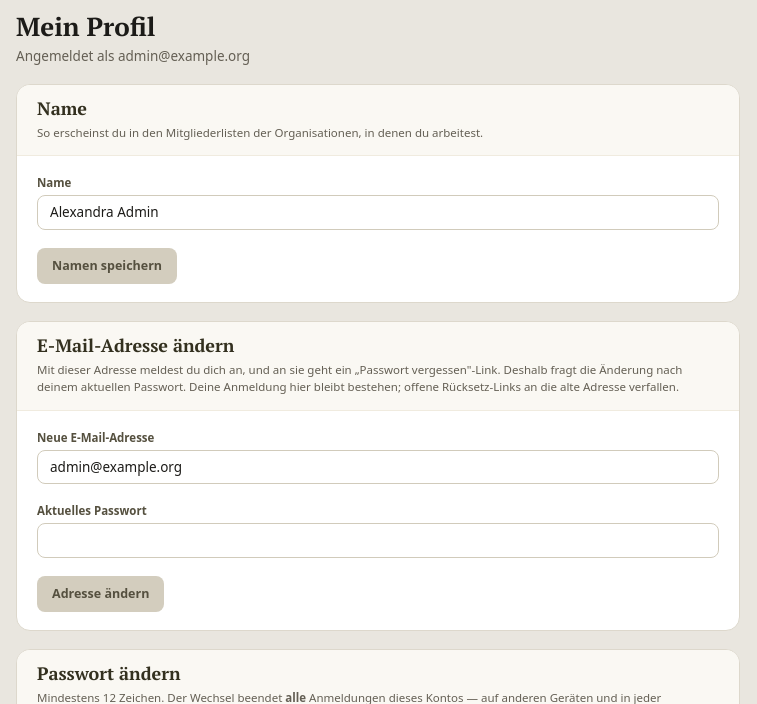
Test case: ProfileView › E-Mail-Adresse ändern (Befund 8) › zeigt bei einem falschen Passwort den Satz des Servers, nicht „bitte anmelden"
Step 1. Replace the text in the field labelled "Neue E-Mail-Adresse" with "neue@example.org" → (378, 467), box [37,450,719,484]
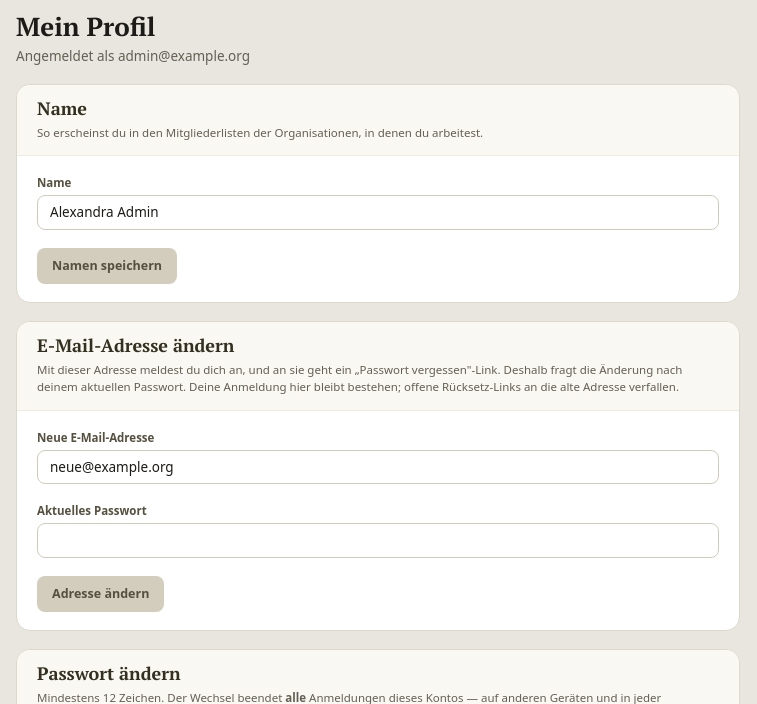
Step 2. Type "falsch" into the password field labelled "Aktuelles Passwort" → (378, 540), box [37,523,719,558]
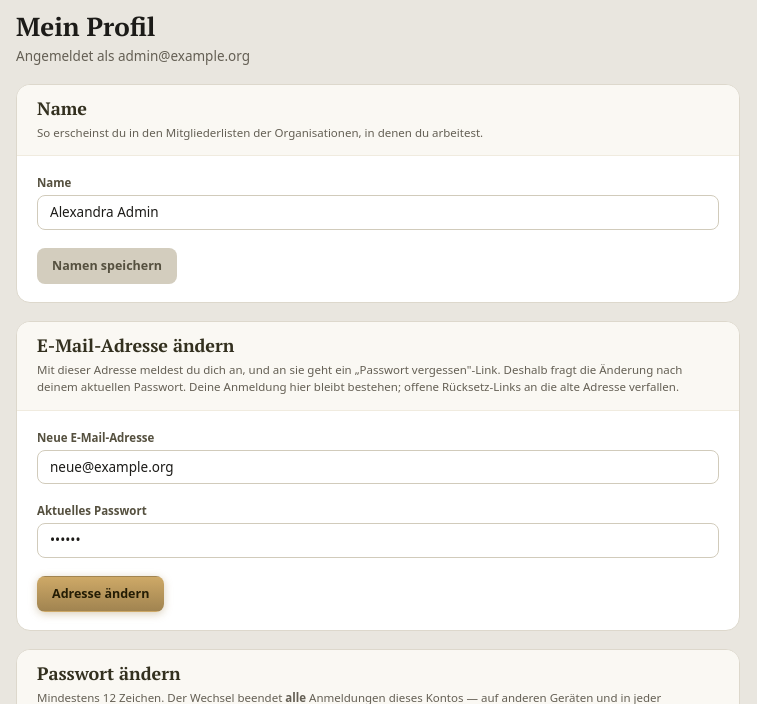
Step 3. Click the button "Adresse ändern" → (101, 594), box [37,576,164,612]
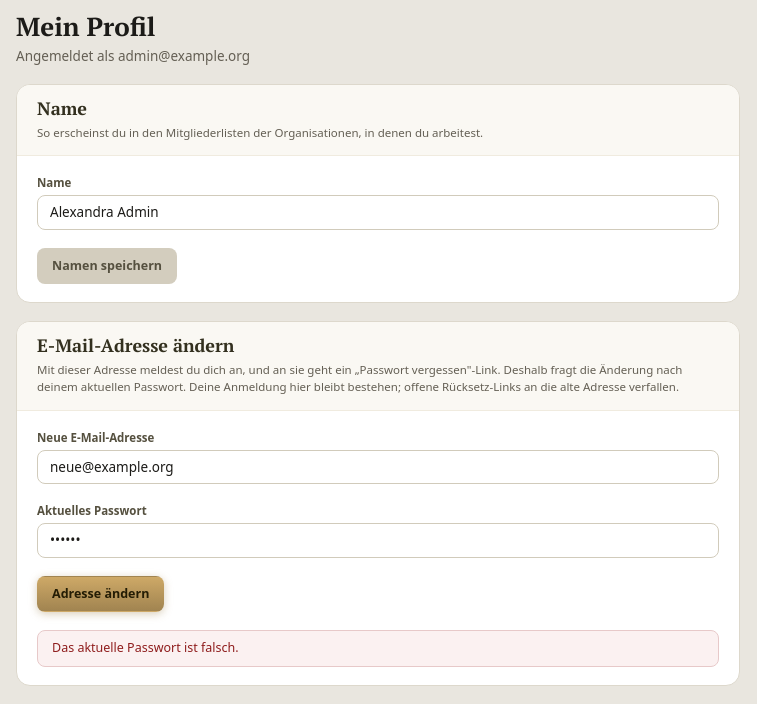
Expected: the text "Das aktuelle Passwort ist falsch." is shown, [37,630,719,667]
